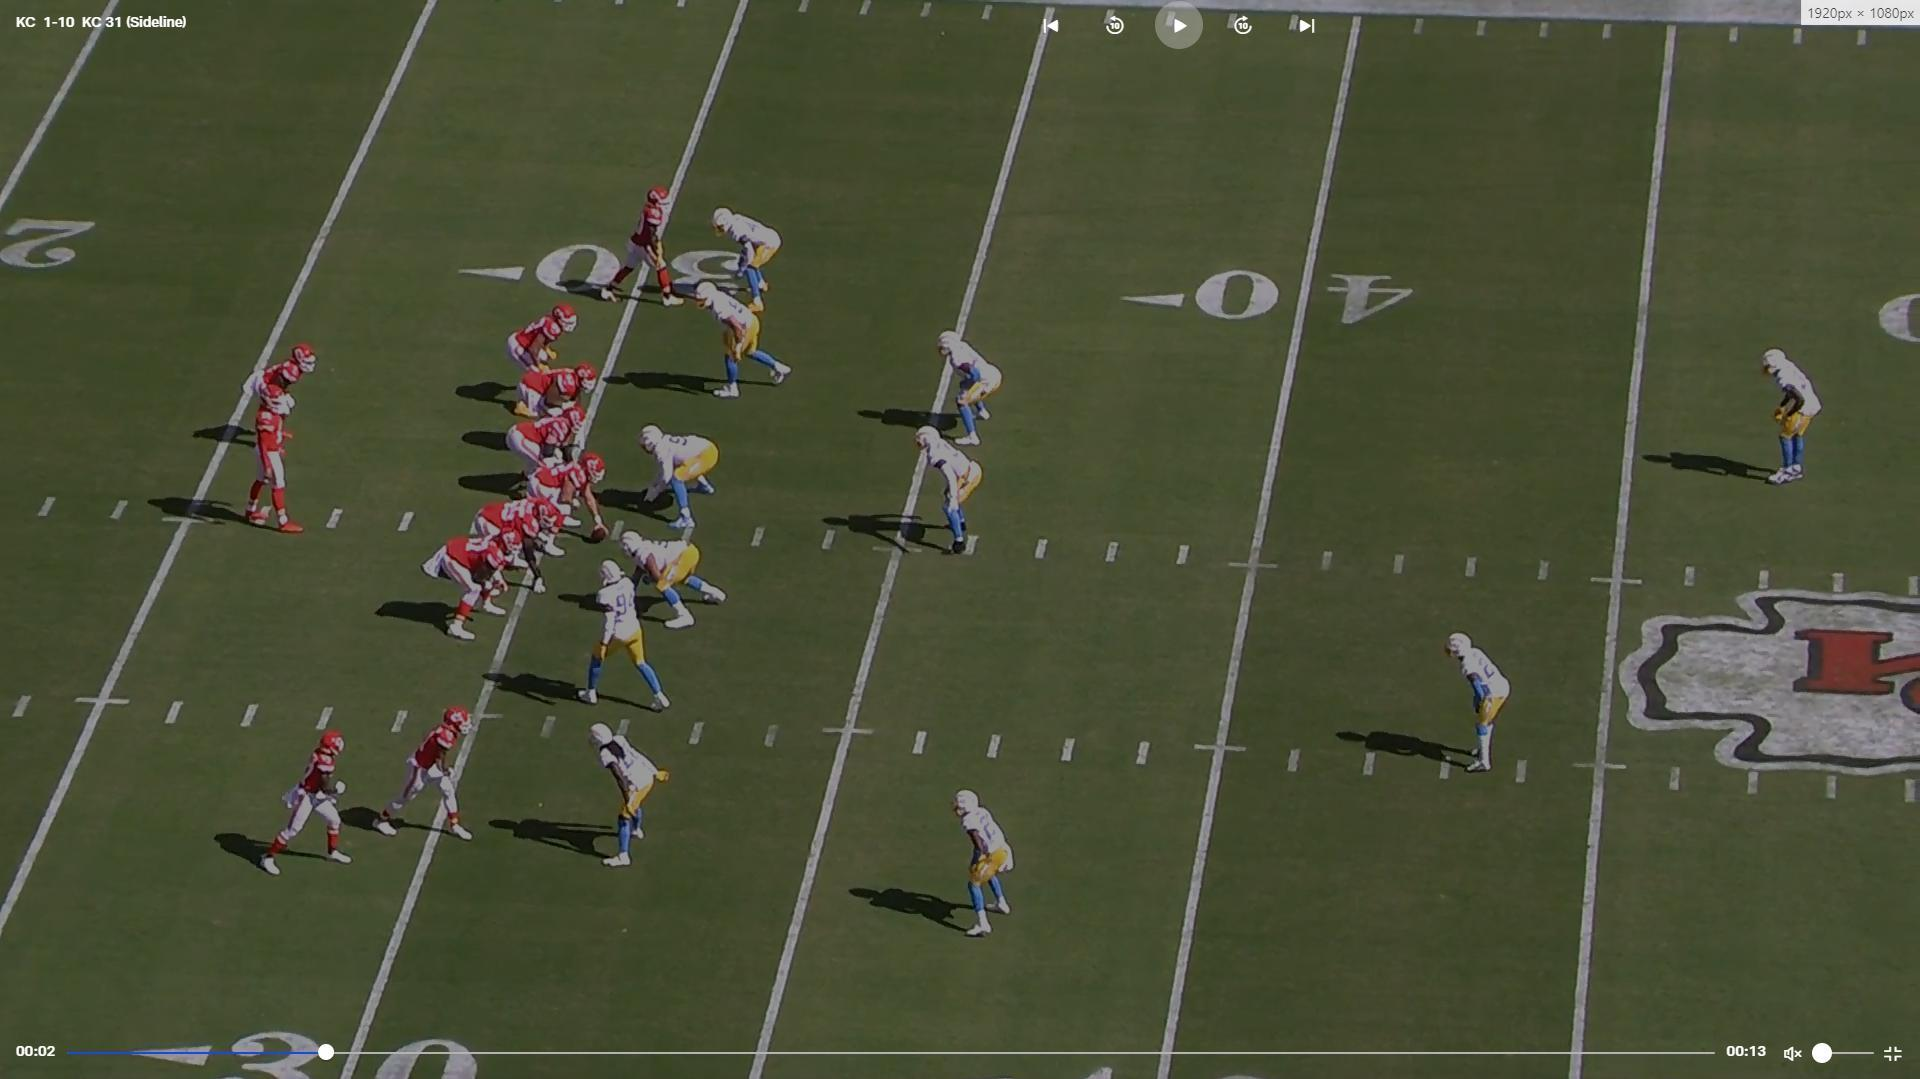player: (670, 272, 790, 409), (583, 560, 674, 719), (254, 732, 351, 879), (379, 706, 475, 844), (613, 530, 727, 635), (427, 522, 516, 649), (591, 181, 677, 309), (955, 786, 1025, 943), (592, 719, 664, 870), (1446, 633, 1518, 782), (1756, 343, 1826, 493), (915, 422, 987, 566), (242, 376, 305, 539), (632, 425, 722, 528), (710, 203, 788, 314), (936, 326, 1005, 451), (477, 494, 562, 595), (523, 452, 611, 546), (508, 363, 596, 430), (508, 300, 582, 375), (518, 405, 597, 468), (246, 340, 322, 402)
